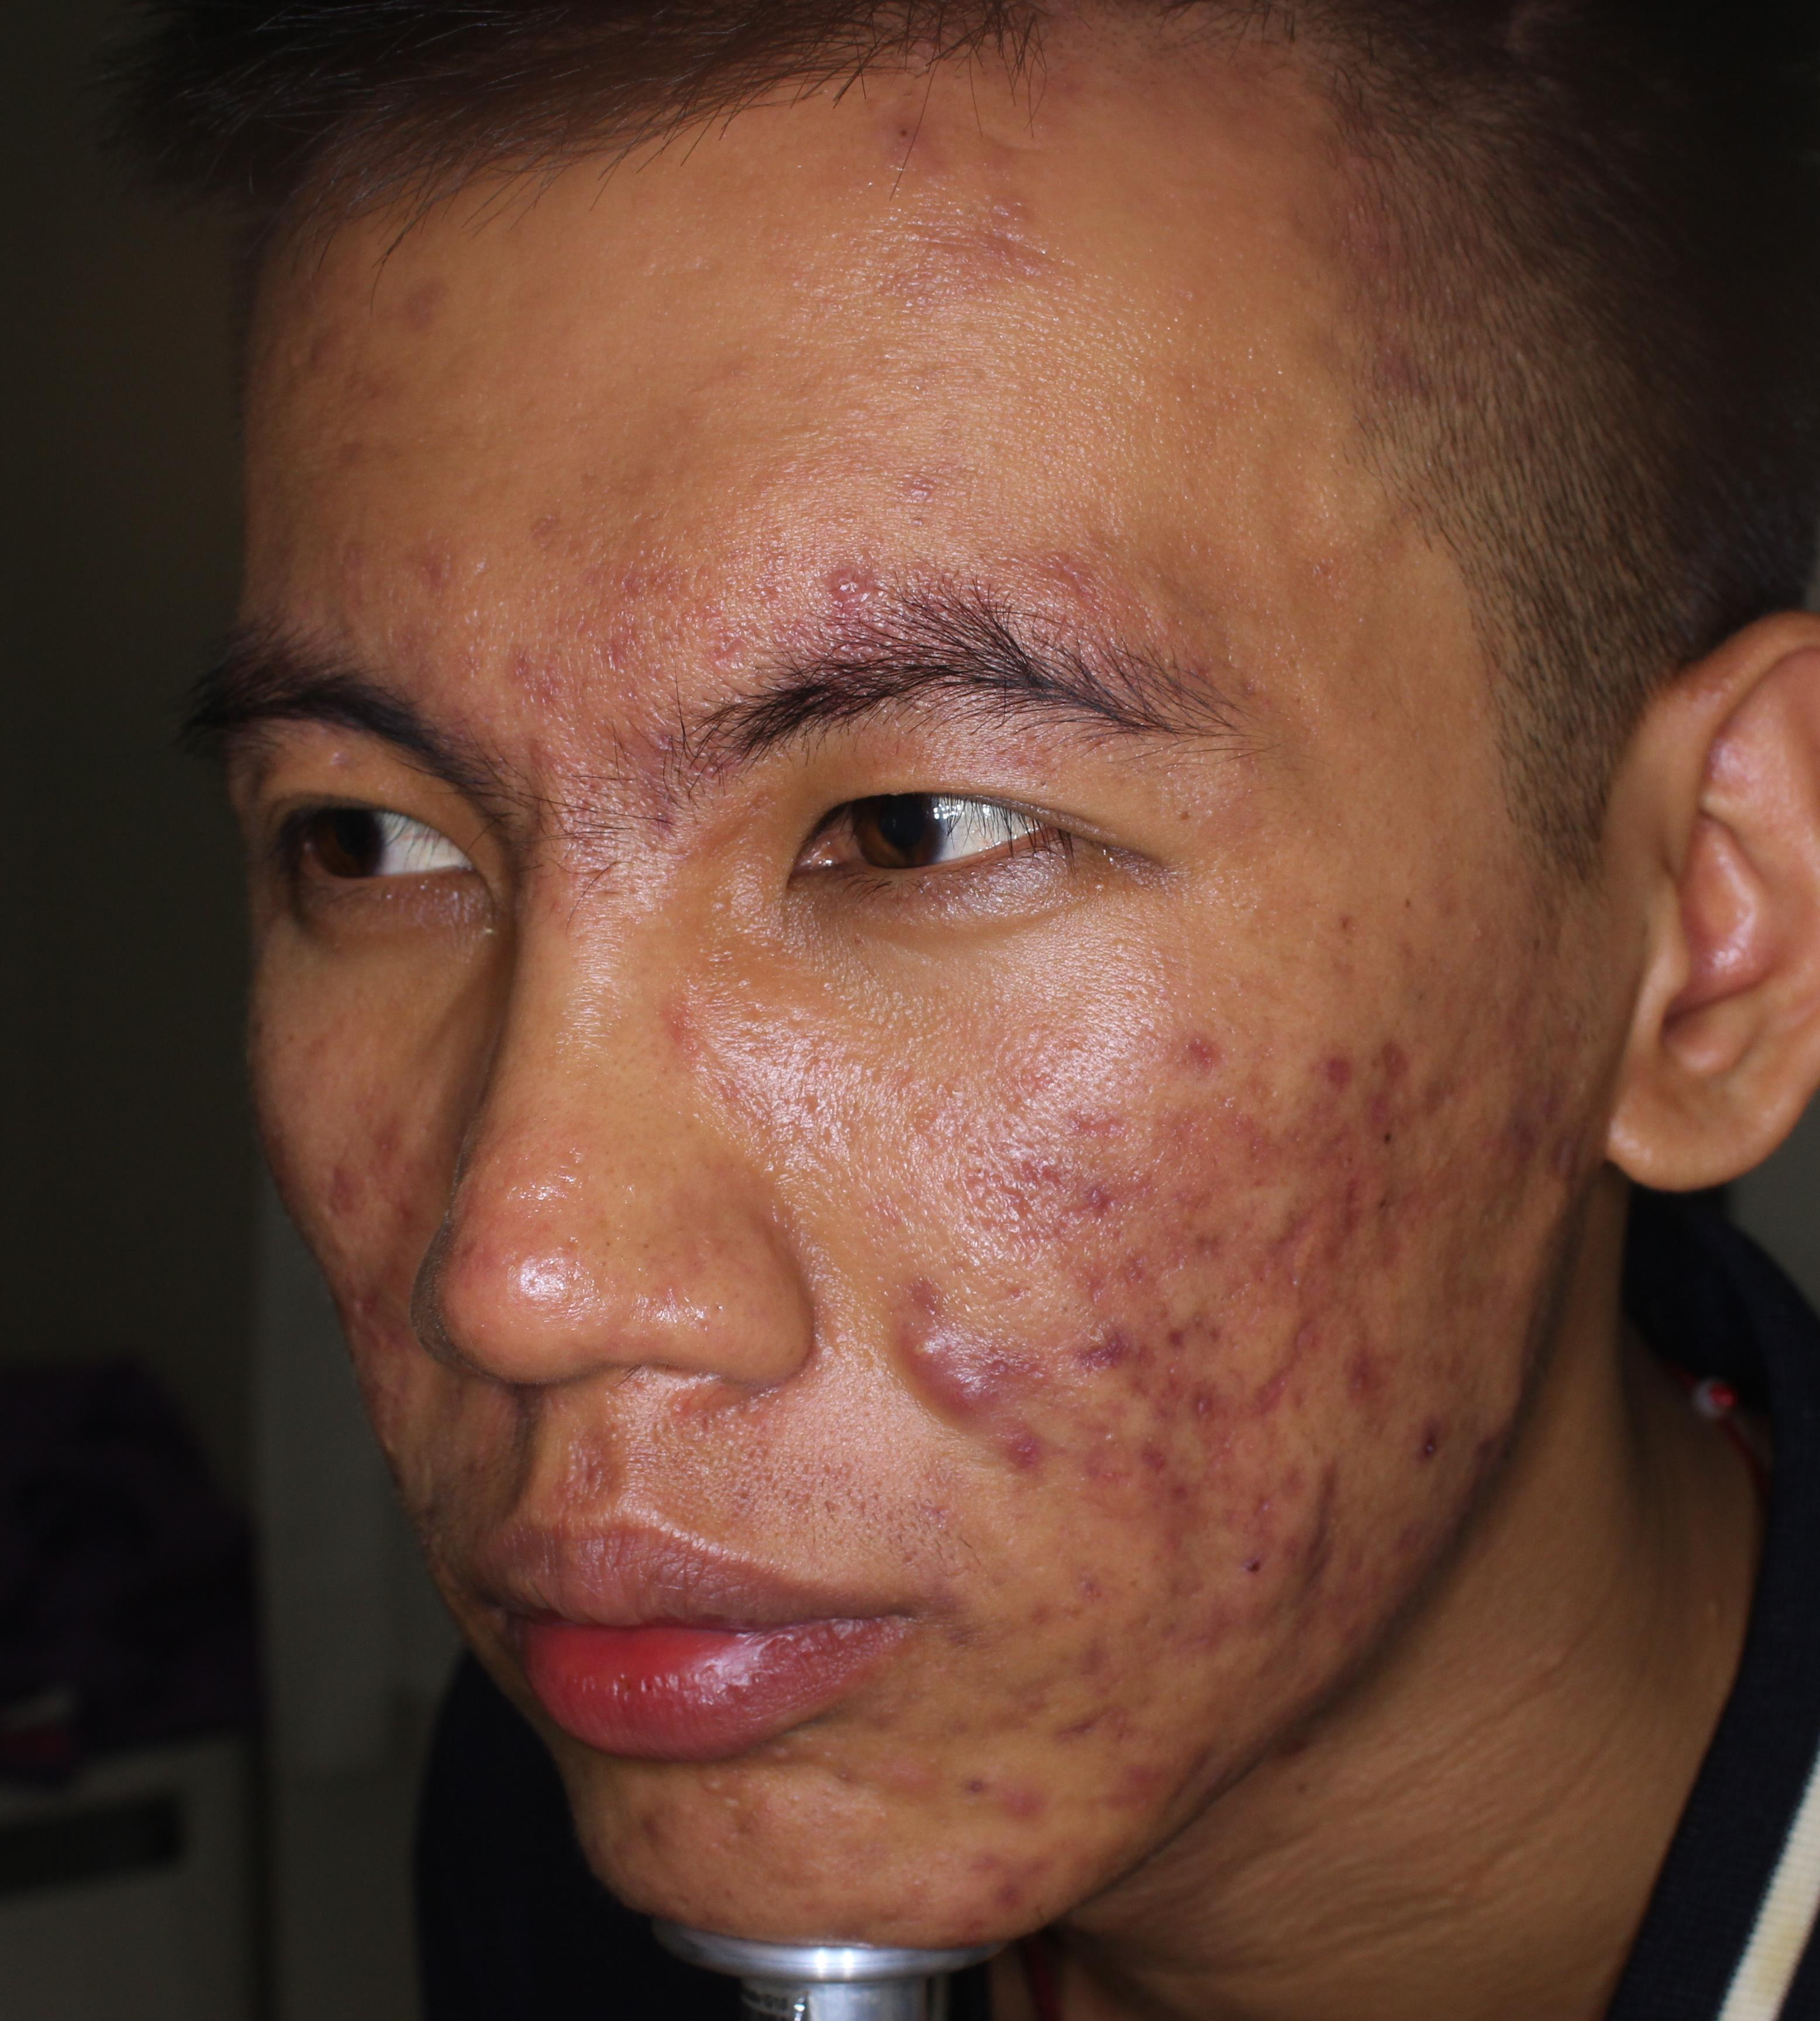fore: (1152, 1571, 1265, 1724), (947, 1823, 1072, 1912), (615, 1777, 713, 1886), (780, 532, 910, 613), (1291, 1450, 1386, 1557), (1126, 1366, 1251, 1447), (1123, 1011, 1242, 1096), (940, 198, 1054, 284), (1065, 1422, 1156, 1529), (956, 1679, 1068, 1765), (1045, 1603, 1135, 1705), (1138, 1442, 1239, 1531), (1328, 1168, 1421, 1262), (1051, 1710, 1138, 1809), (1251, 1554, 1360, 1629), (1268, 1277, 1360, 1366), (1158, 1208, 1256, 1289), (987, 1436, 1068, 1528), (1363, 1008, 1435, 1110), (1042, 1145, 1144, 1213), (499, 653, 583, 734), (704, 1782, 794, 1858), (956, 1773, 1072, 1831), (1158, 1303, 1247, 1375), (1279, 1034, 1354, 1118), (912, 1577, 987, 1659), (1224, 1115, 1302, 1194), (1054, 1213, 1135, 1289), (1386, 1406, 1484, 1464), (1346, 1320, 1409, 1410), (884, 107, 956, 184), (1479, 983, 1551, 1061), (655, 990, 719, 1076), (1240, 1192, 1321, 1259), (583, 615, 661, 683), (975, 1326, 1058, 1389), (892, 1294, 970, 1361), (1474, 1101, 1546, 1171), (963, 1162, 1038, 1227), (1028, 553, 1101, 618), (766, 1847, 845, 1907), (1065, 1092, 1130, 1162), (854, 1682, 933, 1735), (1230, 1484, 1291, 1550), (1072, 1306, 1135, 1370), (1142, 1542, 1203, 1605), (813, 1737, 875, 1794), (1116, 1756, 1172, 1819), (871, 1754, 943, 1803), (1063, 1556, 1116, 1622), (697, 625, 759, 680), (870, 1872, 935, 1923), (1170, 1168, 1221, 1233), (885, 464, 947, 514), (1412, 883, 1472, 934), (1244, 1368, 1295, 1426), (1319, 1110, 1430, 1136), (1458, 904, 1511, 959), (754, 1730, 813, 1775), (982, 1273, 1045, 1315), (947, 1902, 996, 1954), (942, 1375, 1019, 1406)
